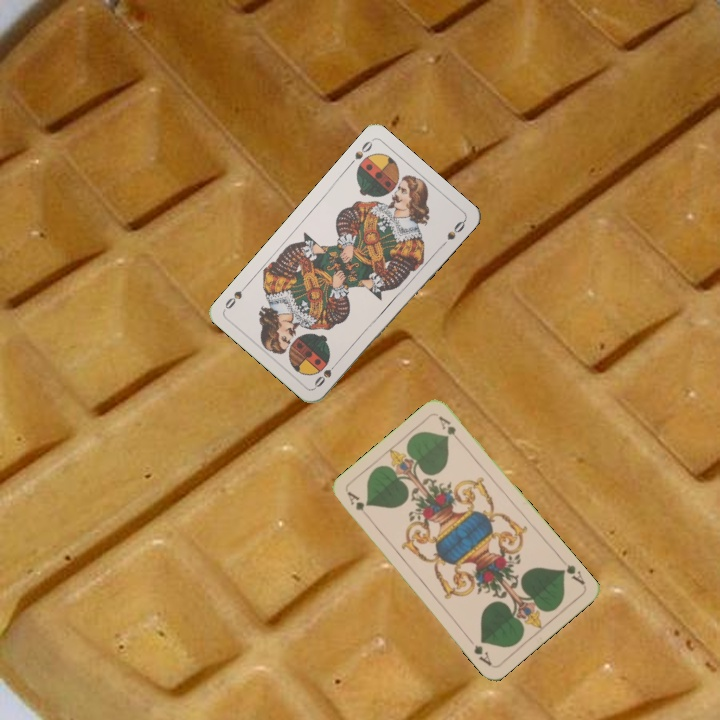GA: (343, 487, 373, 521), (557, 554, 587, 587)
SO: (310, 357, 342, 390), (344, 137, 375, 169)
